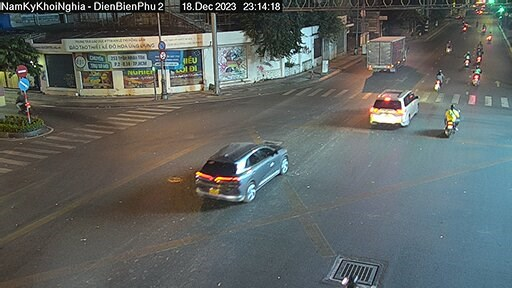car: (184, 137, 298, 203), (365, 85, 420, 130)
motorbike: (439, 102, 471, 141), (468, 66, 490, 91), (424, 69, 448, 91), (458, 52, 474, 70), (441, 37, 455, 55), (482, 28, 497, 44), (472, 47, 488, 60)
truck: (363, 30, 412, 74)
